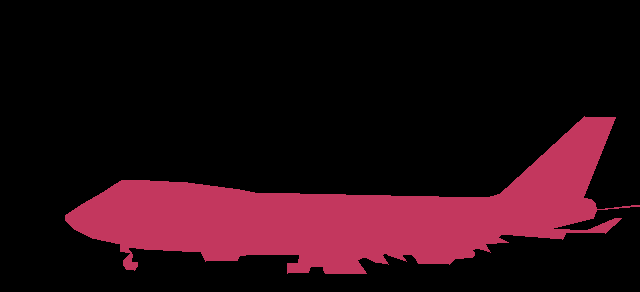Airplane: (65, 116, 640, 274)
